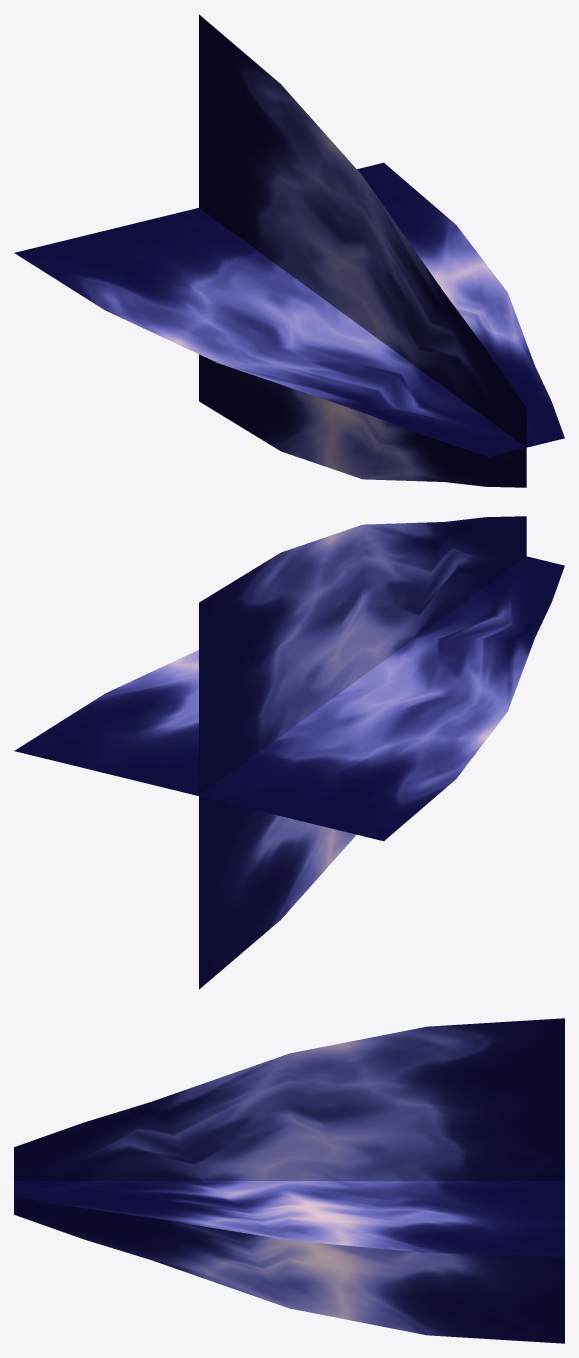
File: chang_shizi03.FBX
3 renders of one model, top to bottom at view 1: azimuth 30°, elevation 25°; view 2: azimuth 150°, elevation 25°; view 3: azimuth 270°, elevation 25°, orthographic. The views are drawn at different scales.
Visible parts, largest first — view 1: Plane003; view 2: Plane003; view 3: Plane003.
Part boxes in pixels (left/top/right/bottom): Plane003: left=14, top=14, right=564, bottom=487; Plane003: left=14, top=516, right=564, bottom=989; Plane003: left=14, top=1018, right=564, bottom=1343.
Bounding box in the file's own units: 42.63 × 42.63 × 65.41.
